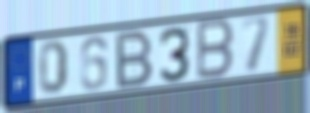0: (36, 38, 71, 99)
3: (158, 25, 192, 85)
6: (79, 34, 109, 93)
7: (241, 13, 272, 75)
B: (114, 27, 156, 92), (195, 17, 236, 83)
